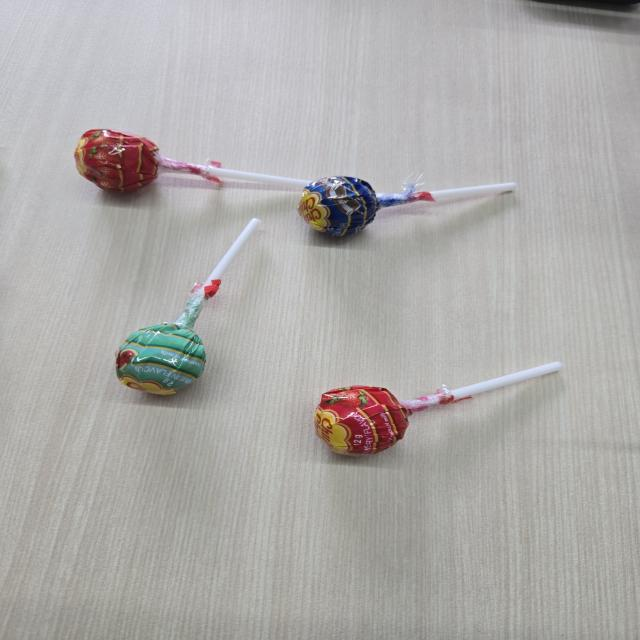lollipop: (107, 212, 270, 402), (314, 361, 564, 463), (73, 125, 314, 198), (298, 171, 520, 240)
